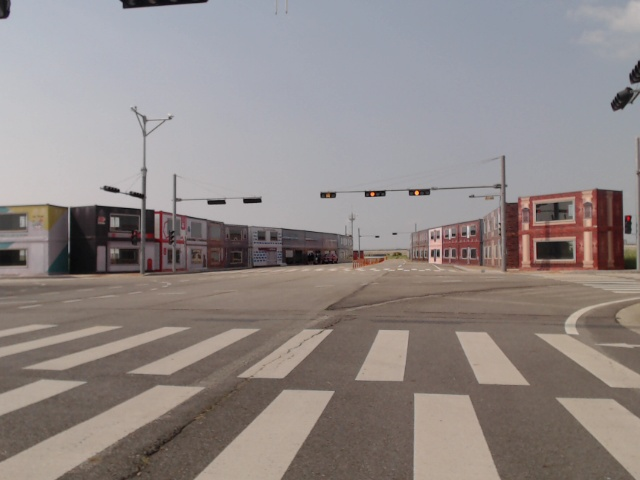orange_4: (406, 188, 432, 197), (362, 190, 386, 199)
